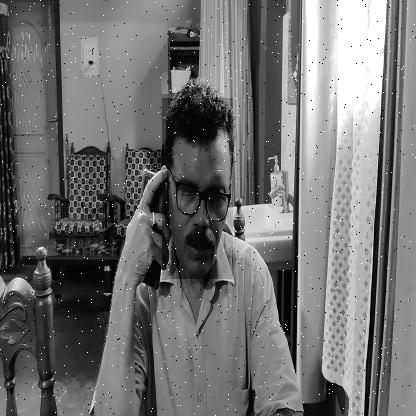Normal: (162, 98, 233, 279)
